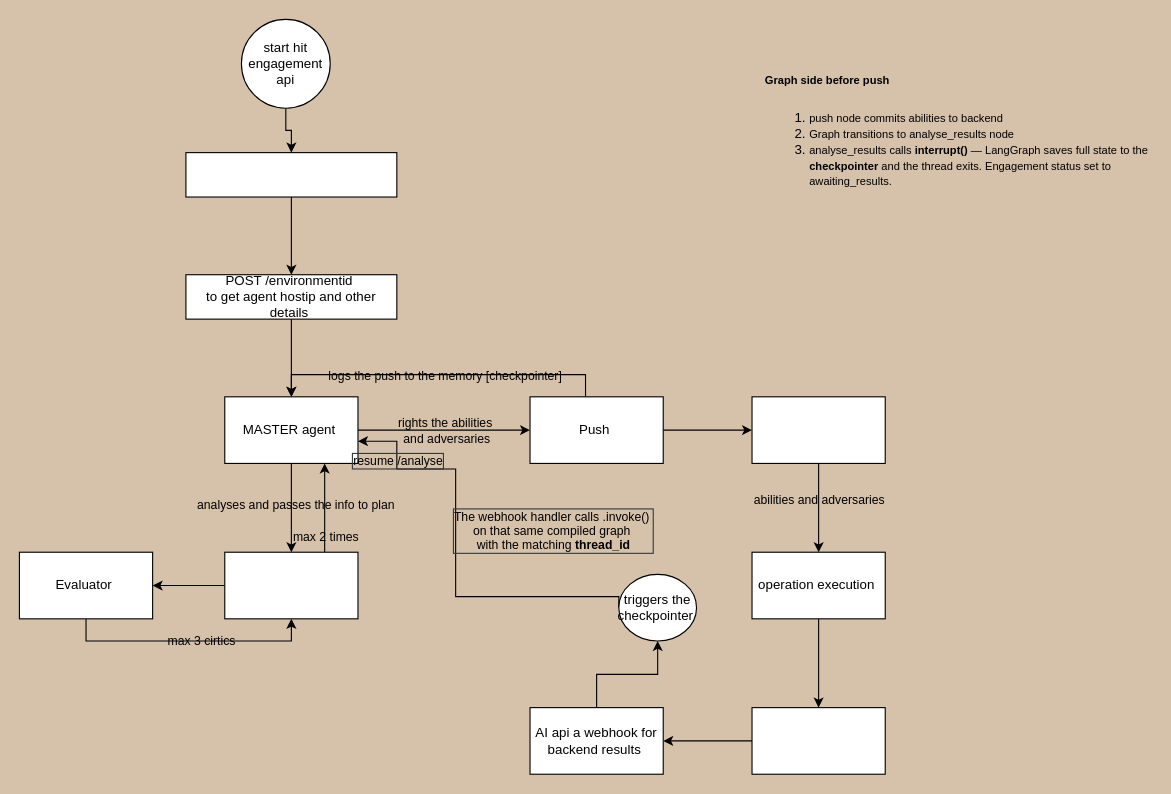
Some shapes in this 1171 by 794 pixel diagram are drawn without their labels. The box of each missing label's shape, as (x1, y1, x2, y2) in pixels:
Backend apis: (751, 396, 885, 463)
input (phase :discovery default, environment id , target platform): (185, 152, 397, 197)
Planner agent (react agent): (224, 551, 358, 619)
results / execution log: (751, 707, 885, 774)
